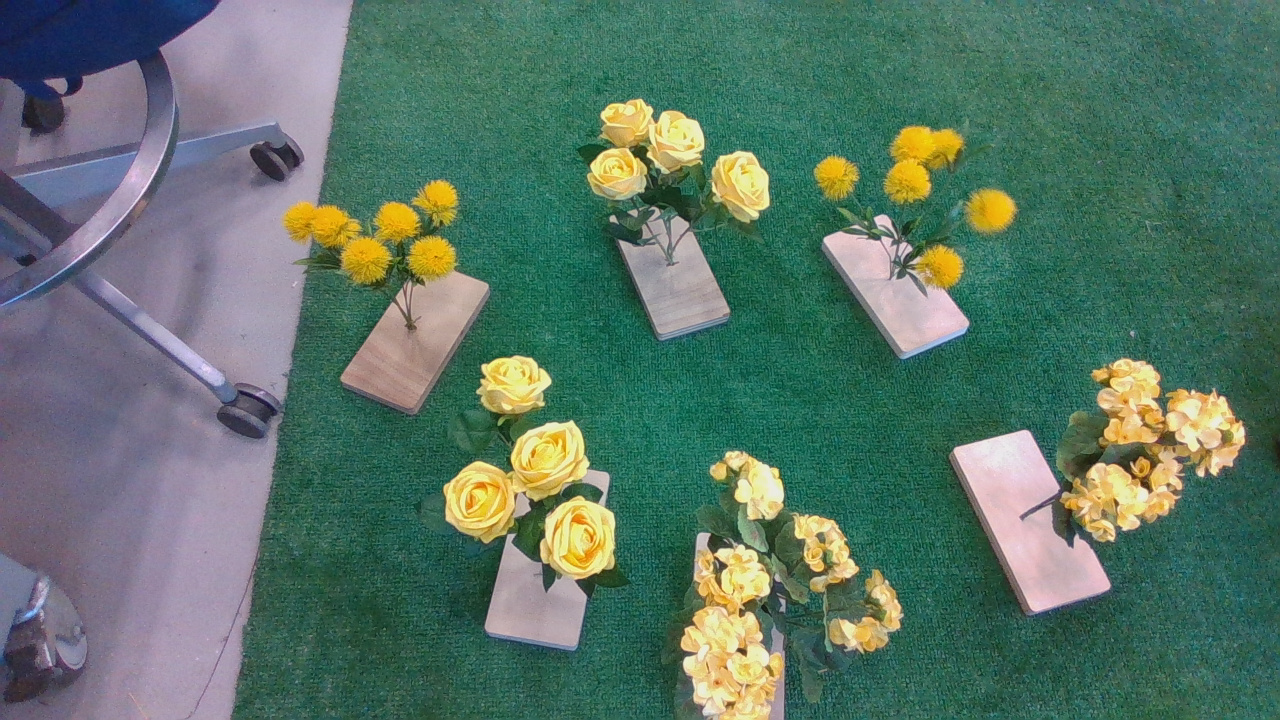dandelion: (806, 123, 1032, 304), (281, 176, 506, 318)
geranium: (663, 437, 917, 720), (1024, 354, 1254, 569)
rose: (436, 352, 653, 607), (550, 86, 782, 273)
